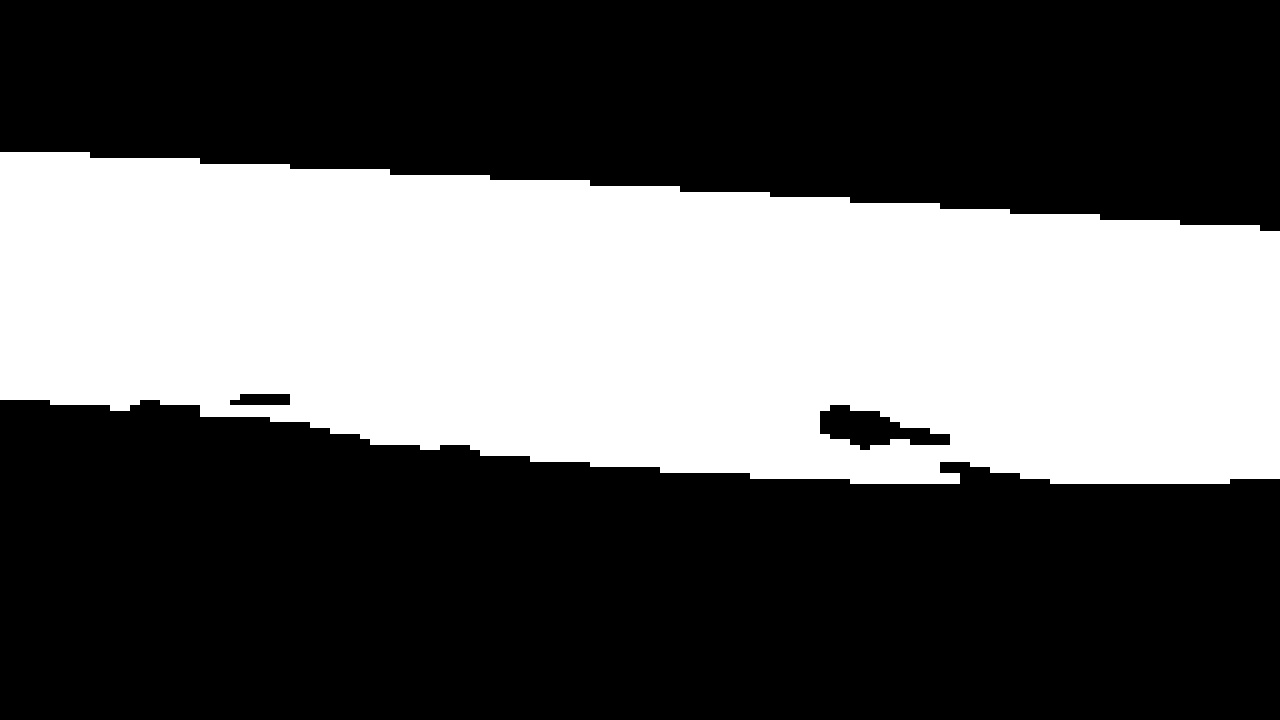Turbine: (26, 132, 1266, 509)
